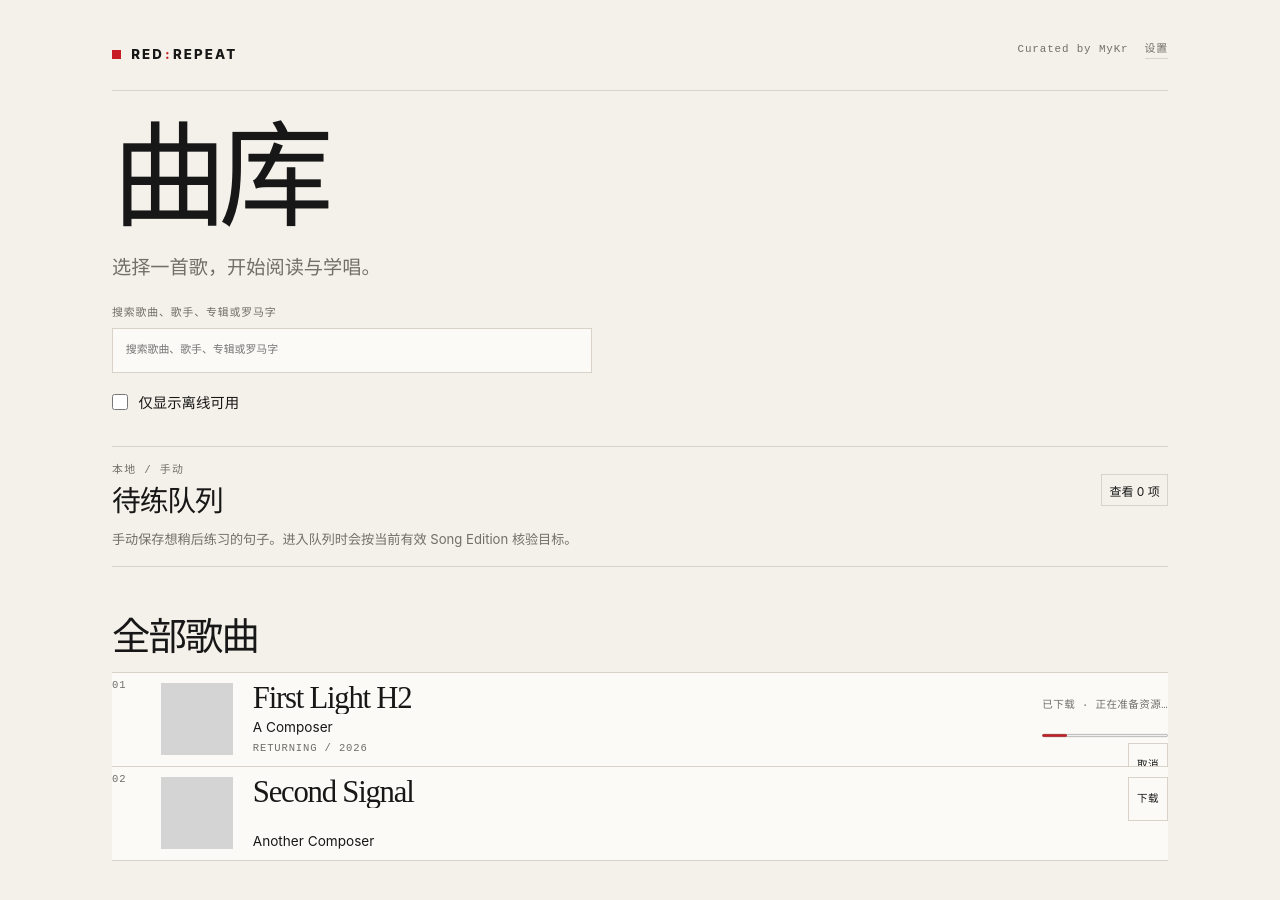
it: App Library consumer › shows only the verified H1 snapshot in offline mode while Catalog H2 refresh is pending
Click the checkbox labelled "仅显示离线可用". click: (120, 402)
box: [112,394,128,410]
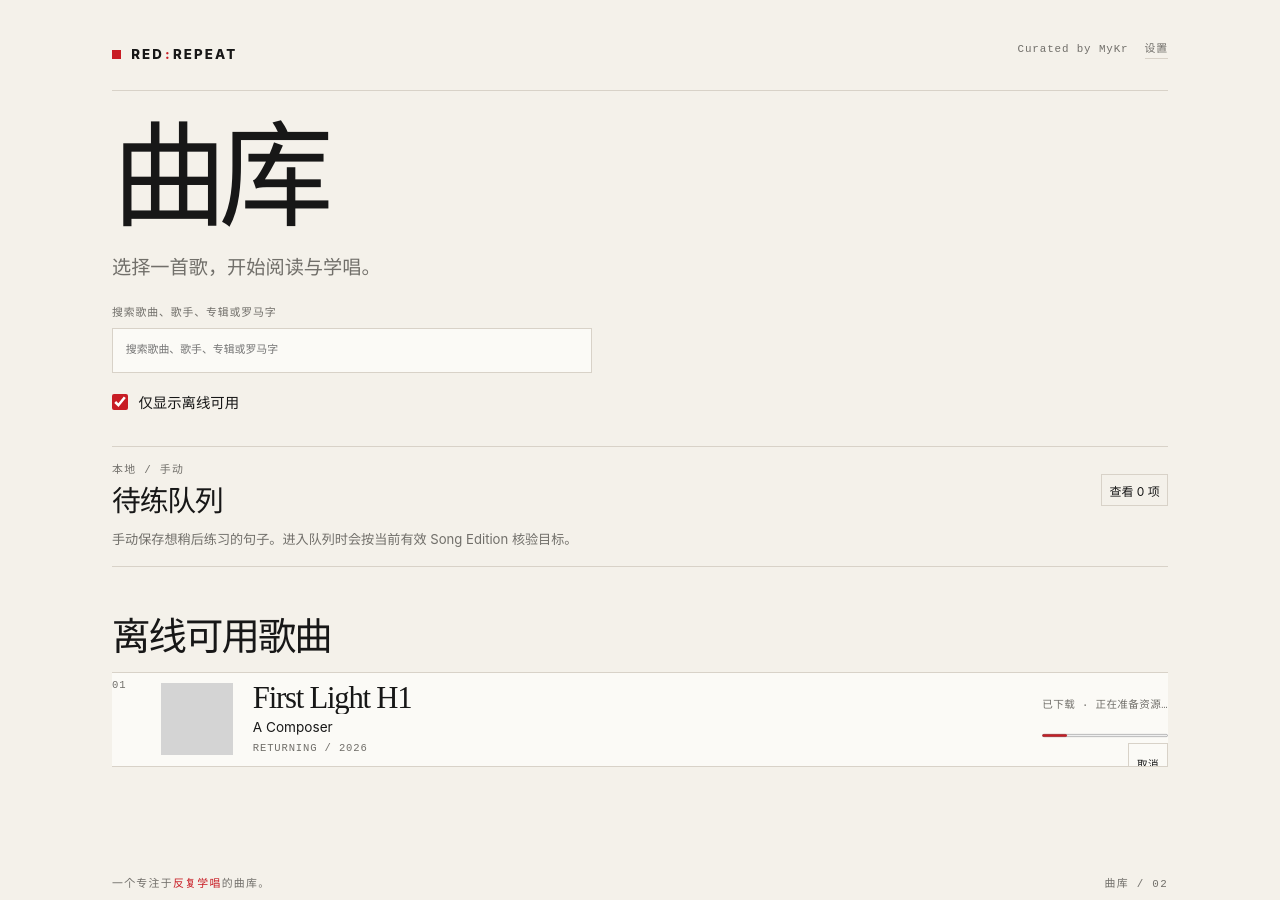
Now the link with aria-label "打开 First Light H1" is shown, box [161,682,411,756]
Click the button with aria-label "取消下载 First Light H1". click: (1148, 766)
box: [1128,744,1168,788]
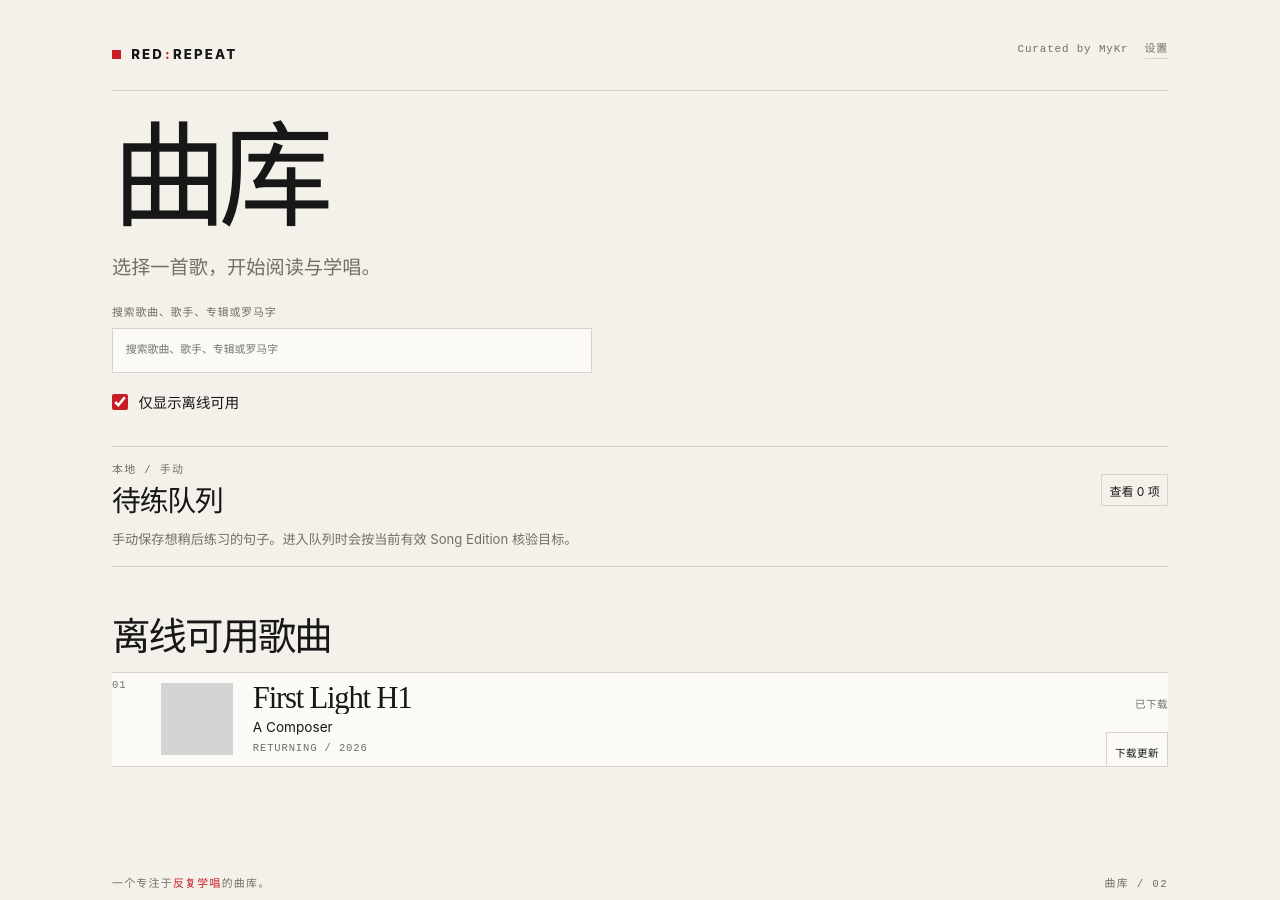
Now the link with aria-label "打开 First Light H1" is shown, box [161,682,411,756]
Now the button with aria-label "下载更新 First Light H2" is shown, box [1106,733,1168,766]
Type "H2" into the search field labelled "搜索歌曲、歌手、专辑或罗马字". click: (352, 350)
box: [112,328,592,373]
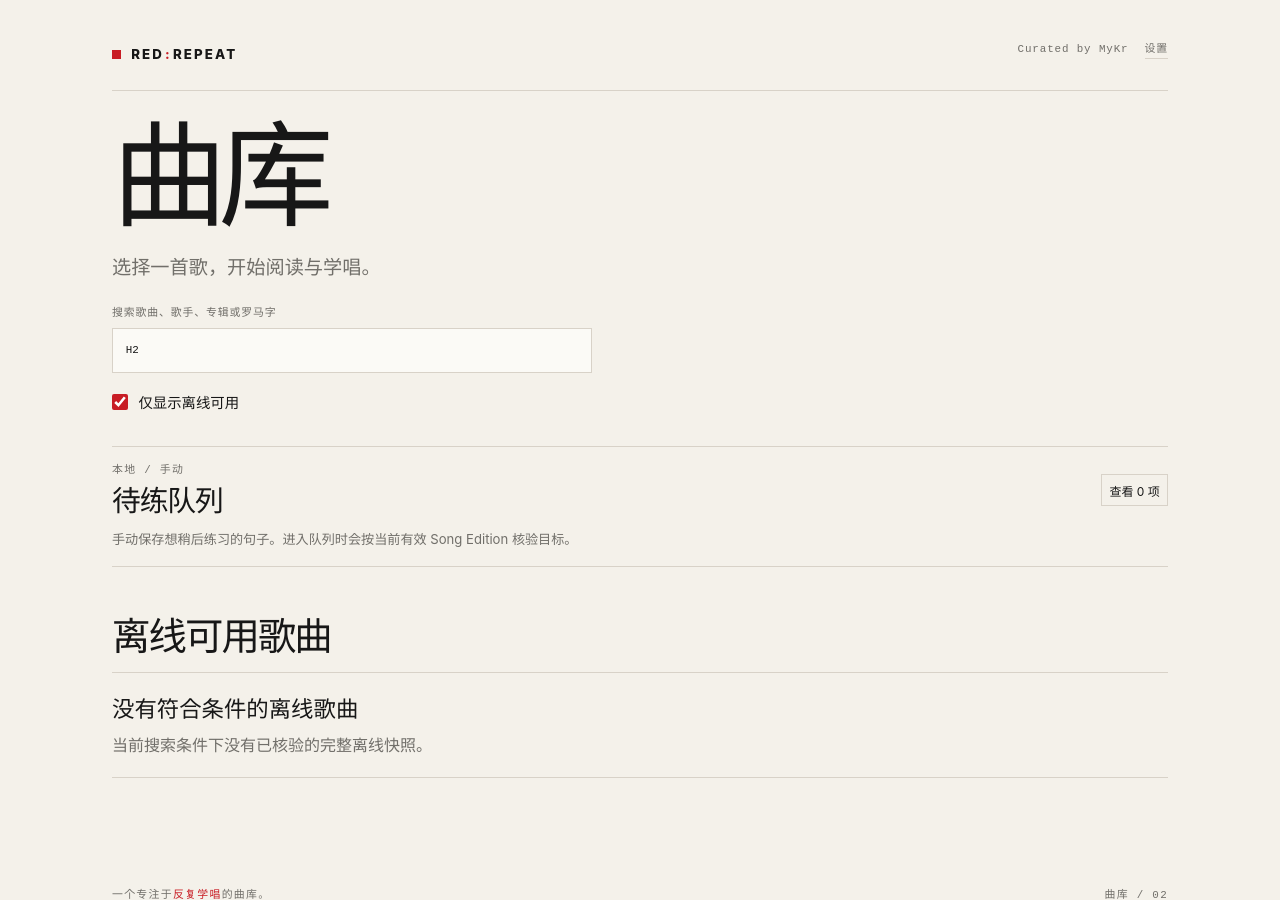
Now the text "没有符合条件的离线歌曲" is shown, box [112,697,358,722]
Replace the text in the search field labelled "搜索歌曲、歌手、专辑或罗马字" with "H1". click: (352, 350)
box: [112,328,592,373]
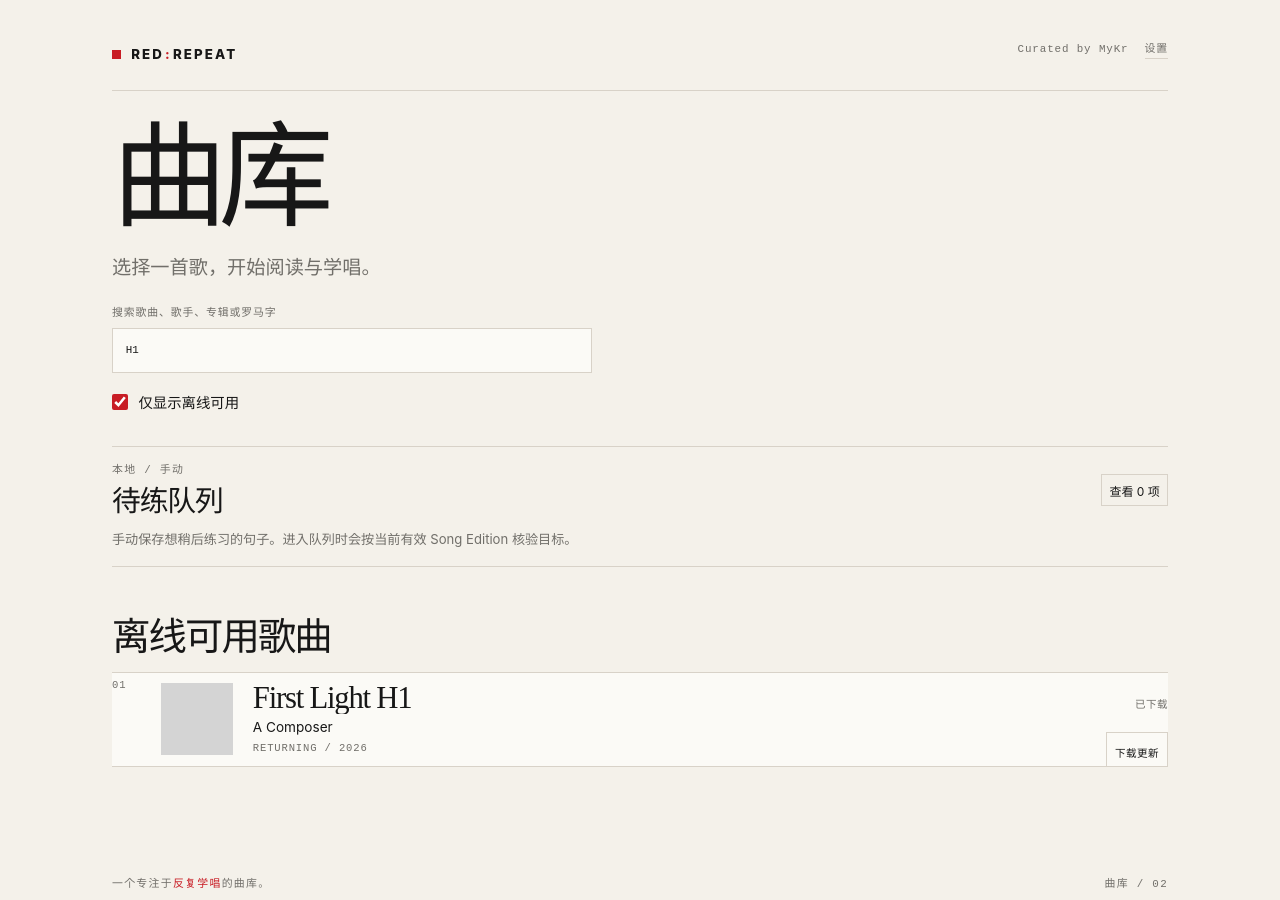
Now the link with aria-label "打开 First Light H1" is shown, box [161,682,411,756]
